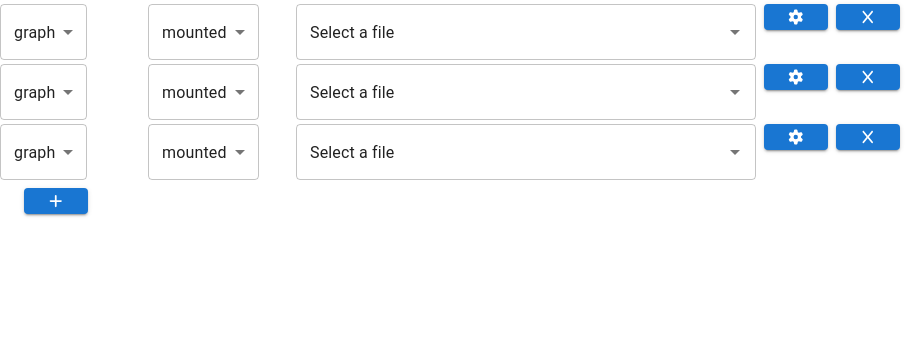
it: TrackPickerDisplay › should add track items when the add button is pressed
Step 1. Click the button with test id "track-add-button-component" → [56, 201], box [24, 188, 88, 214]
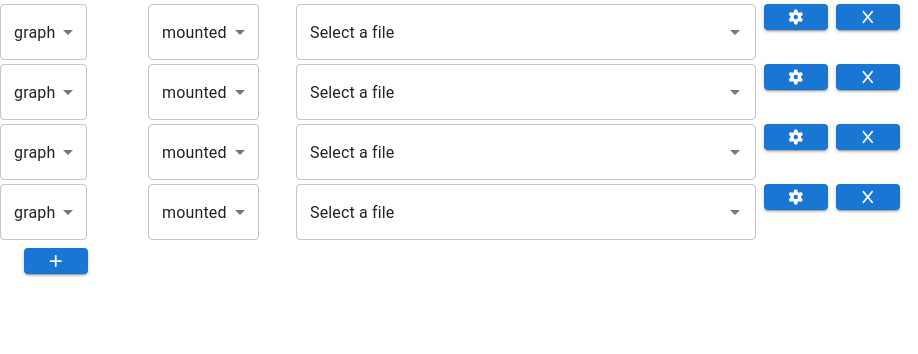
Expected: the element with test id "file-type-select-component3" is shown, [0, 179, 87, 240]
Expected: the element with test id "file-select-component3" is shown, [296, 184, 756, 240]
Expected: the icon with test id "settings-button-component3" is shown, [787, 190, 805, 204]
Step 2. Click the button with test id "track-add-button-component" → [56, 261], box [24, 248, 88, 274]
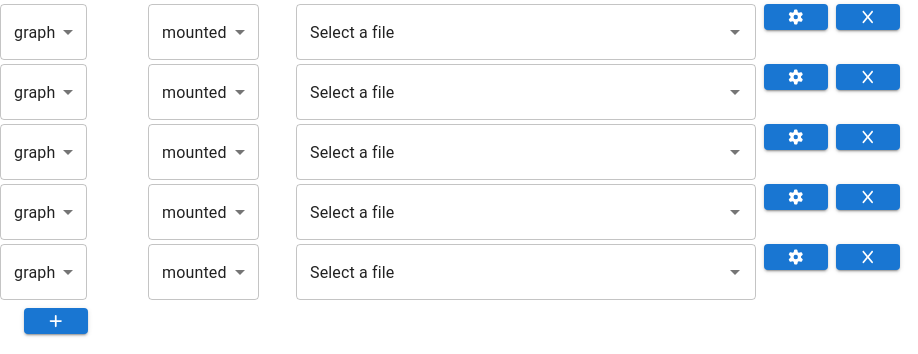
Expected: the element with test id "file-type-select-component4" is shown, [0, 239, 87, 300]
Expected: the element with test id "file-select-component4" is shown, [296, 244, 756, 300]
Expected: the icon with test id "settings-button-component4" is shown, [787, 250, 805, 264]
